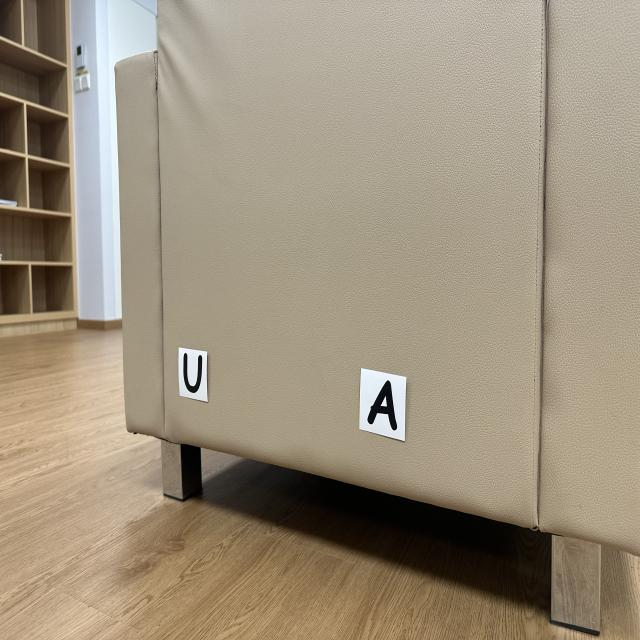A: (368, 380, 398, 430)
U: (182, 352, 202, 393)
